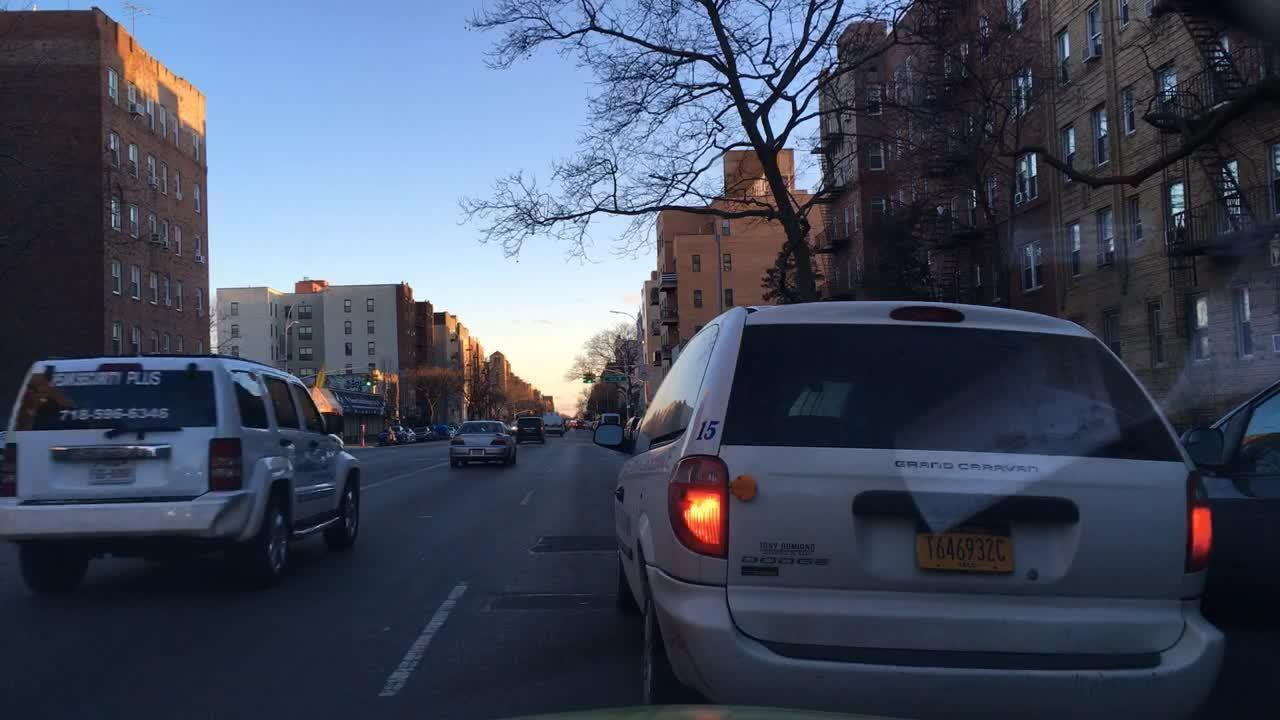dodge: (740, 550, 831, 572)
